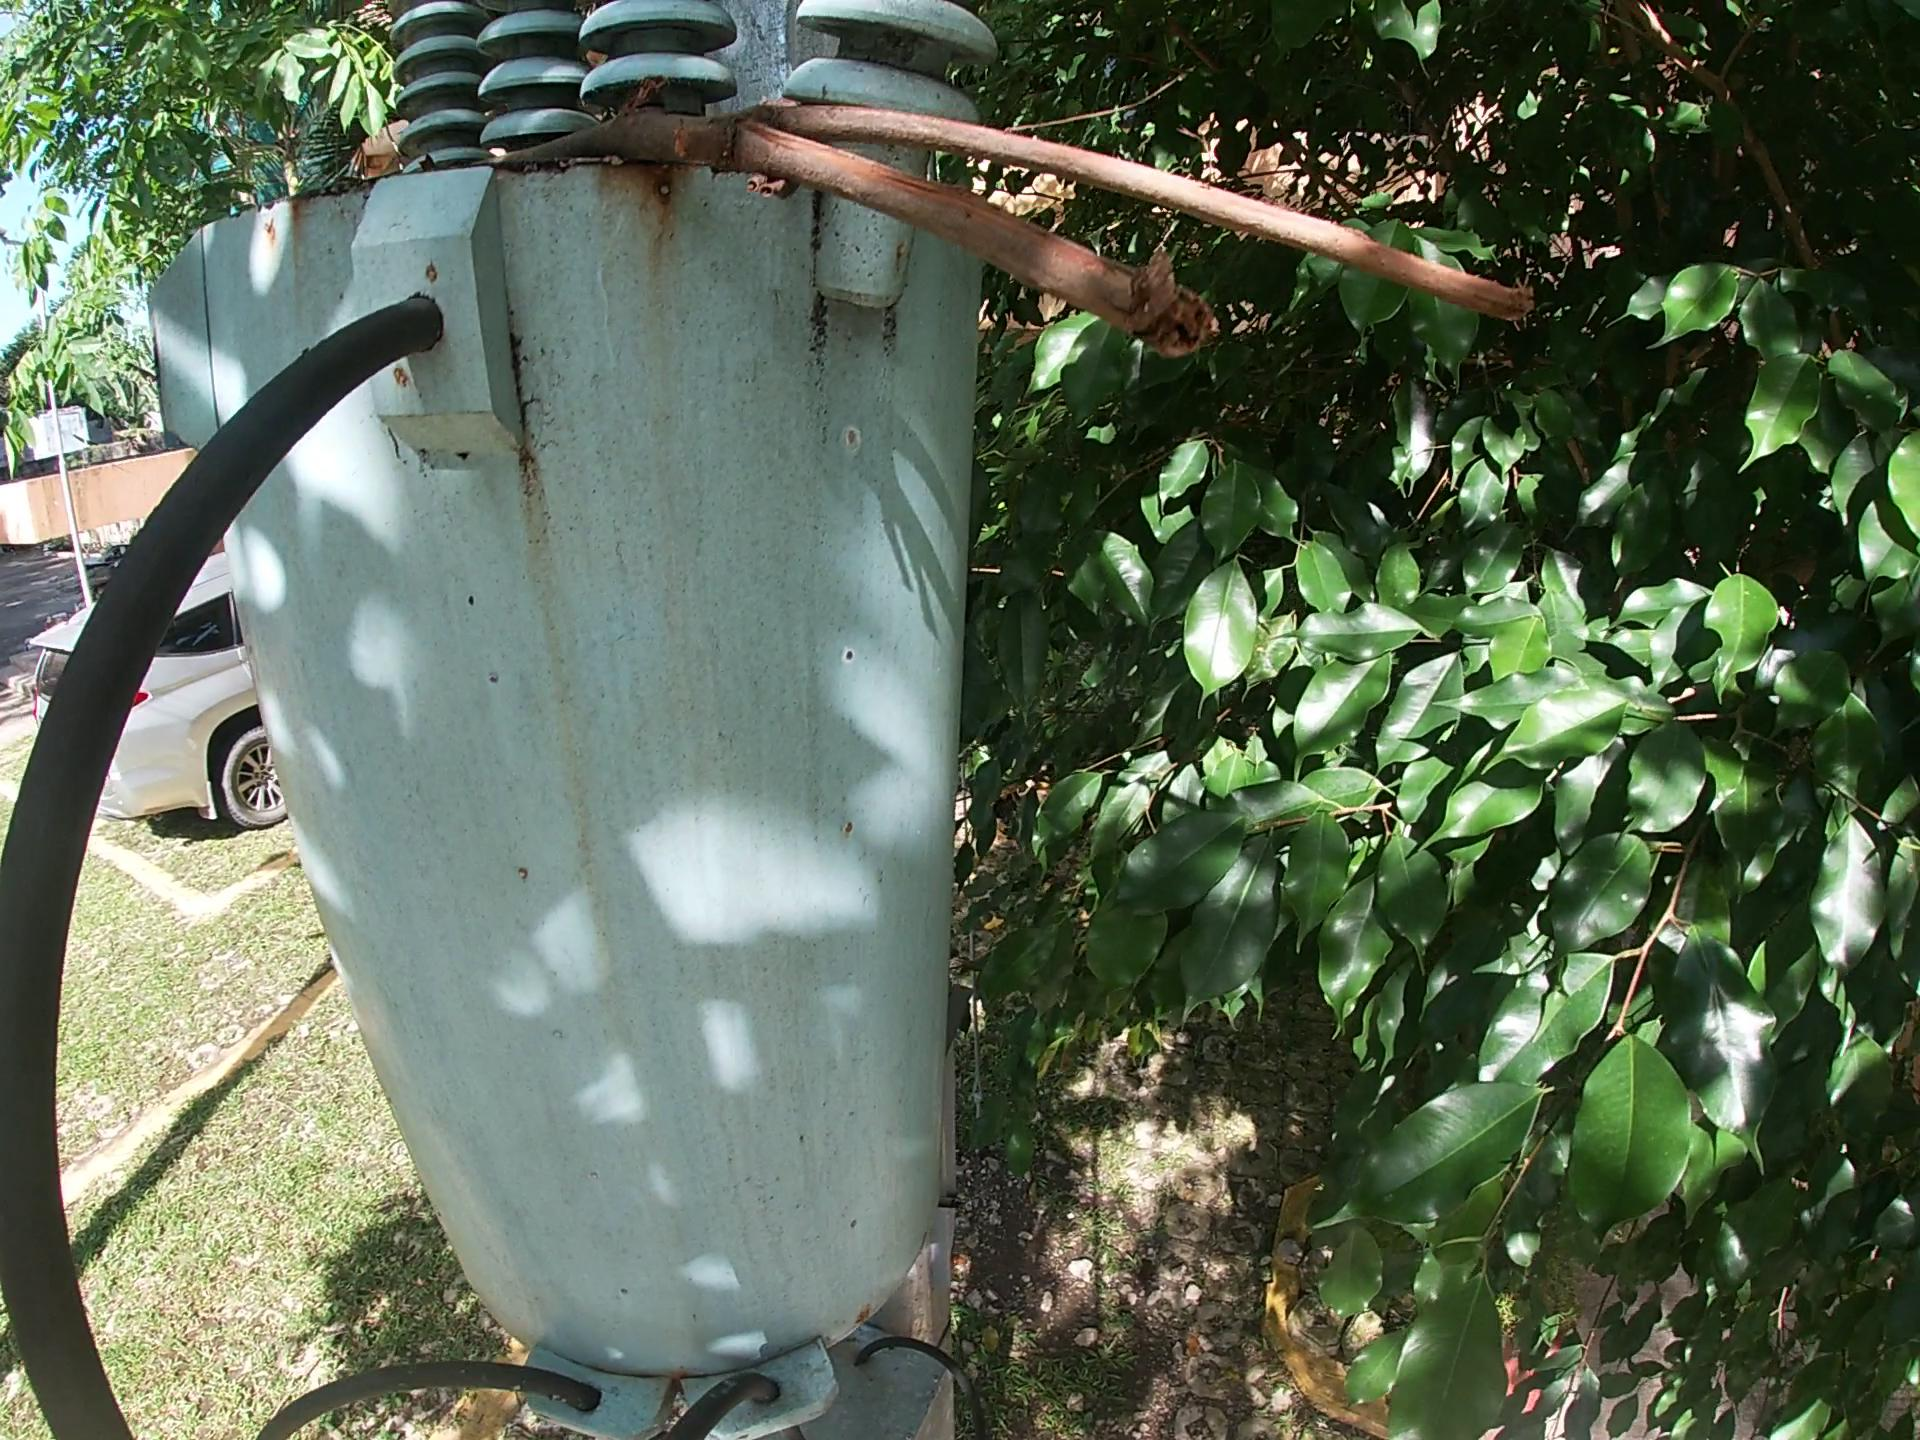tree branch: (454, 67, 1548, 374)
